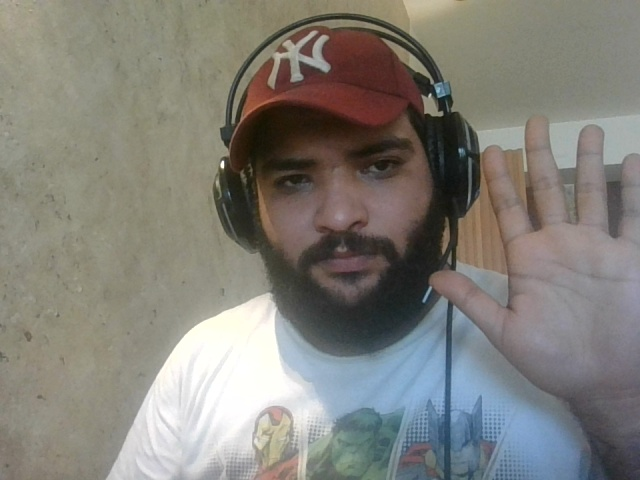hello: (420, 115, 637, 440)
